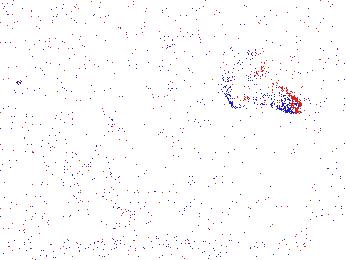flame jellyfish: (220, 56, 302, 115), (72, 161, 133, 216), (15, 162, 76, 210)
